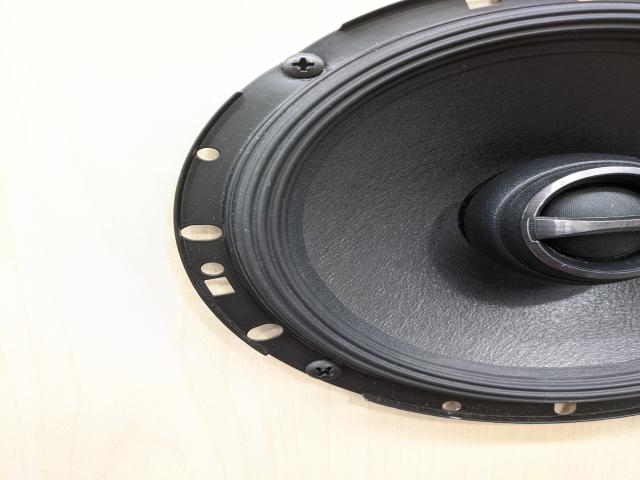CRS: (284, 54, 327, 78), (303, 359, 344, 381)
